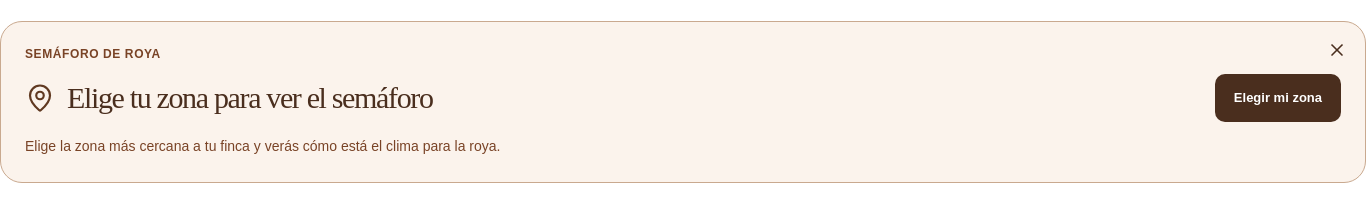
Test case: AvisoSemaforo: cerrar con la X › 3 guarda el día de Lima y deja la franja con «Ver semáforo»
The image size is (1366, 200).
Click the button named "Cerrar aviso" at (1337, 50), box [1315,28,1359,72]
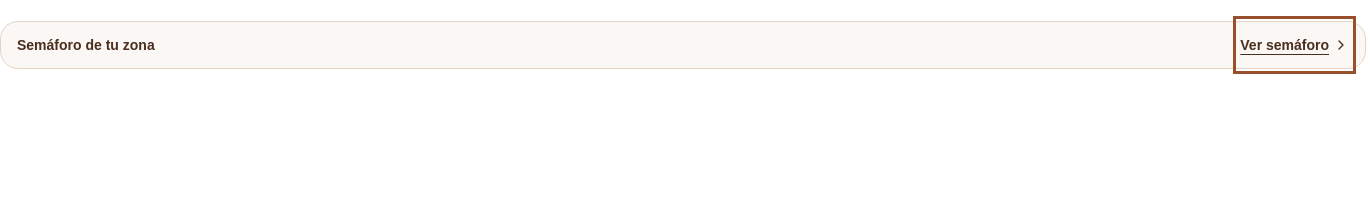
Expected: the message named "Semáforo de roya de tu zona" is shown, [0,21,1365,69]
Expected: the text "Semáforo de tu zona" is shown, [17,35,155,55]
